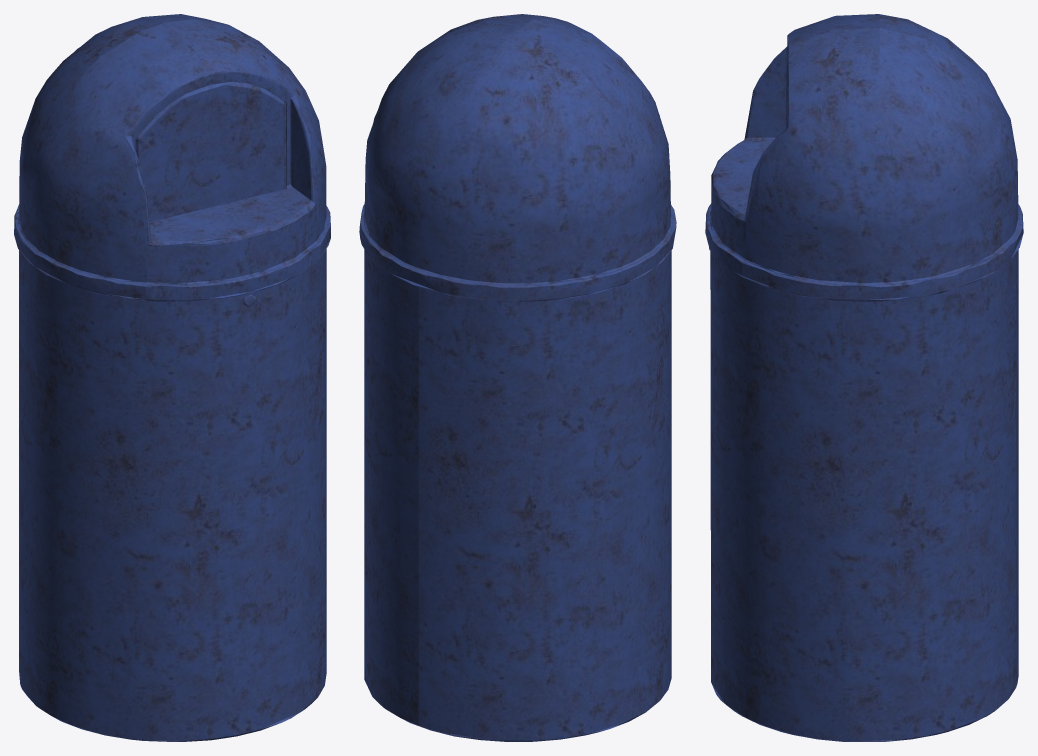
The model's file is park_bin_domed.glb.
3 views of the same model, side by side, from view 1: azimuth 30°, elevation 25°; view 2: azimuth 150°, elevation 25°; view 3: azimuth 270°, elevation 25° (orthographic).
Visible parts, largest first — view 1: park_bin_domed; view 2: park_bin_domed; view 3: park_bin_domed.
Boxes of the visible parts, x1,y1,x2,y2 form: park_bin_domed: [14, 14, 330, 741]; park_bin_domed: [359, 14, 676, 741]; park_bin_domed: [705, 14, 1023, 741].
Bounding box in the file's own units: 0.4715 × 1.06 × 0.4716.
1 material, 1 textured.
